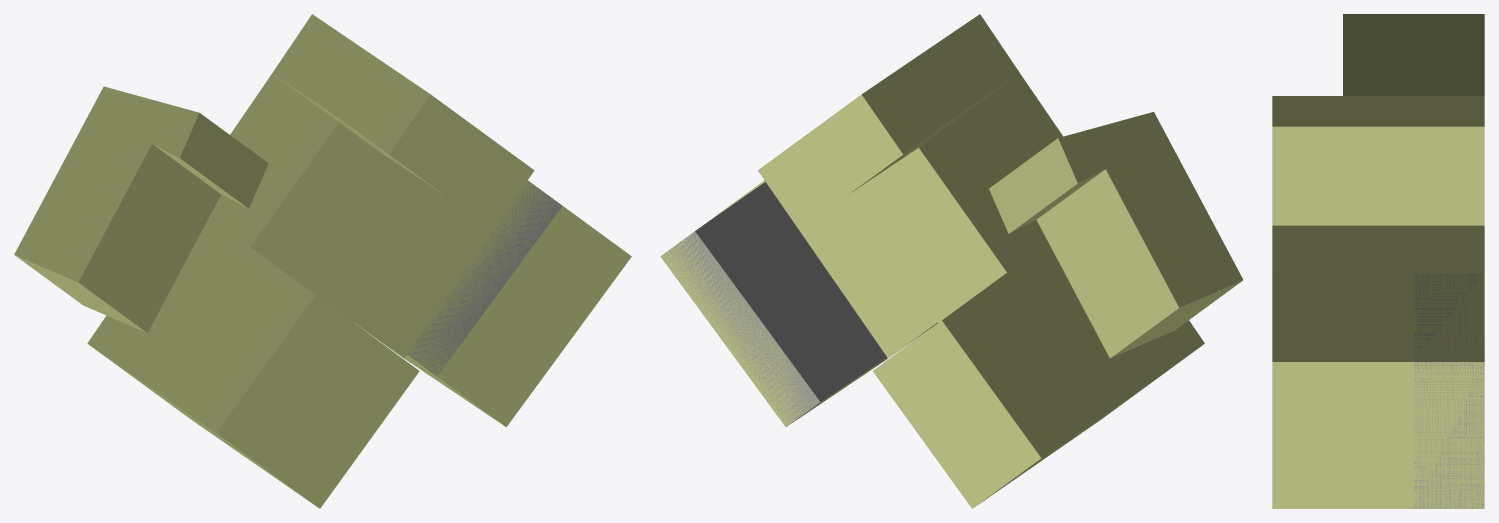
3 renders of one model, left to right at view 1: azimuth 30°, elevation 25°; view 2: azimuth 150°, elevation 25°; view 3: azimuth 270°, elevation 25°, orthographic. The views are drawn at different scales.
Parts seen in each view (by area): view 1: 0_1_1_3_3_1_0_3_2_3; view 2: 0_1_1_3_3_1_0_3_2_3; view 3: 0_1_1_3_3_1_0_3_2_3.
Part boxes in pixels (left/top/right/bottom): 0_1_1_3_3_1_0_3_2_3: left=14, top=14, right=631, bottom=508; 0_1_1_3_3_1_0_3_2_3: left=660, top=14, right=1243, bottom=508; 0_1_1_3_3_1_0_3_2_3: left=1272, top=14, right=1484, bottom=508.
Size of the model in its own units: 25.71 by 18.9 by 9.
